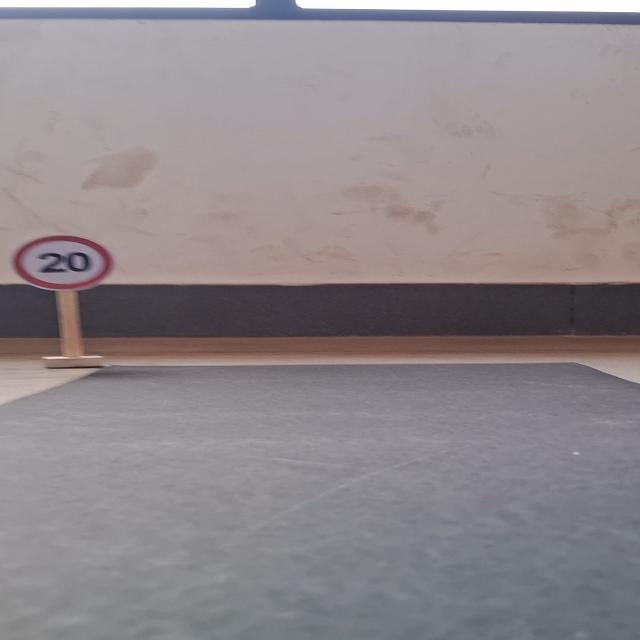Speed20: (6, 233, 128, 295)
